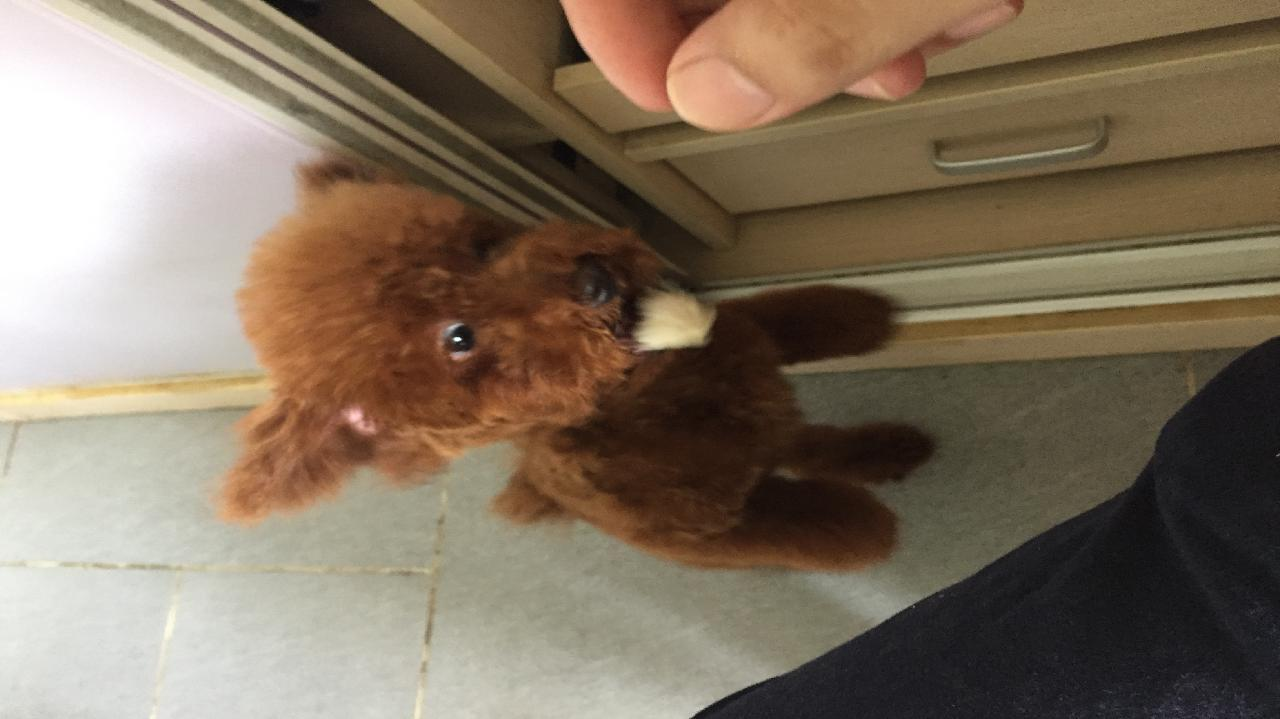coin: (229, 157, 969, 587)
